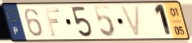1: (153, 3, 174, 39)
5: (92, 5, 118, 39), (70, 5, 94, 39)
6: (23, 7, 45, 38)
F: (42, 8, 62, 38)
V: (119, 5, 142, 39)
